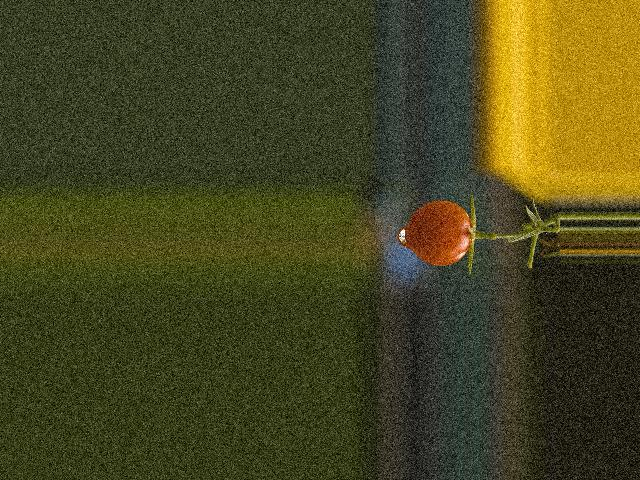tomato: (407, 201, 472, 266)
